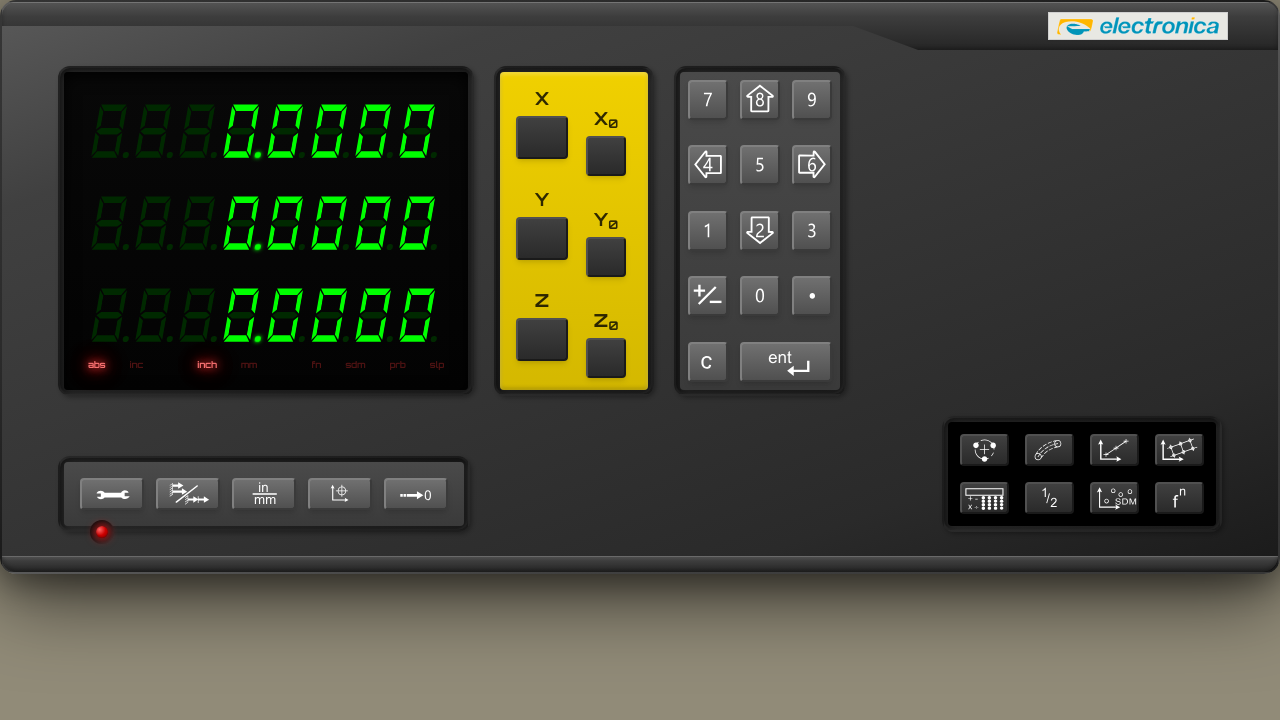
Test case: SDM Learn Mode Integration (US-009) › entering SDM and the menu (AC 9.1) › navigates the menu ring with the right arrow
This screenshot has width=1280, height=720.
Click the button with test id "btn-sdm": (1114, 498) [1090,482,1139,514]
Wait 1010 ms
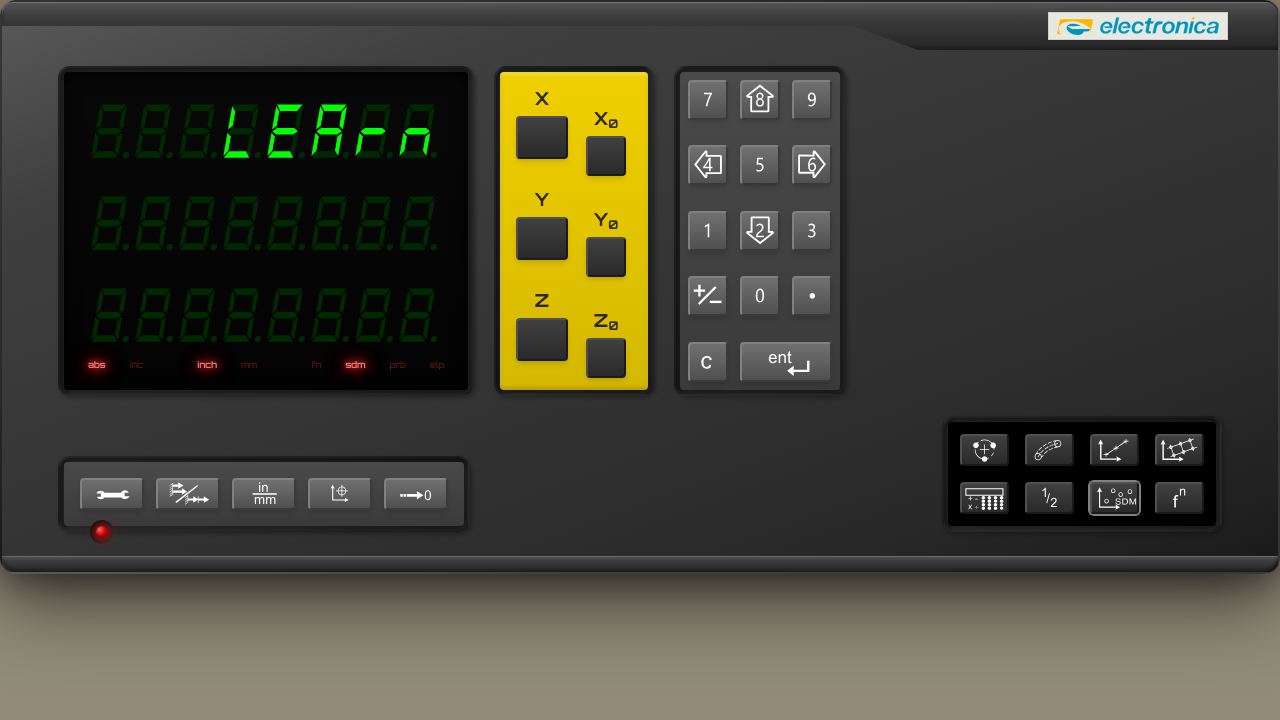
Click the button with test id "key-6": (812, 165) [792,145,832,185]
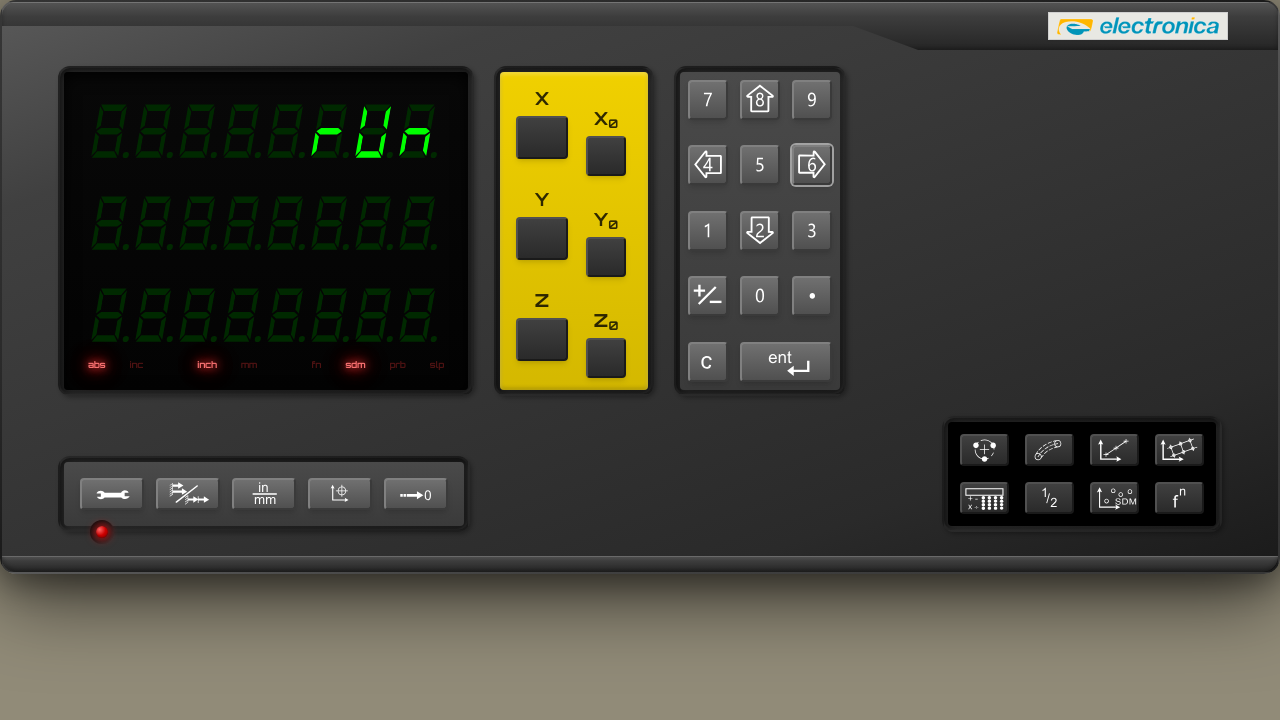
Expected: the cell with test id "axis-value-x" reads "rUn", [121,116,154,136]
Click the button with test id "key-6": (812, 165) [792,145,832,185]
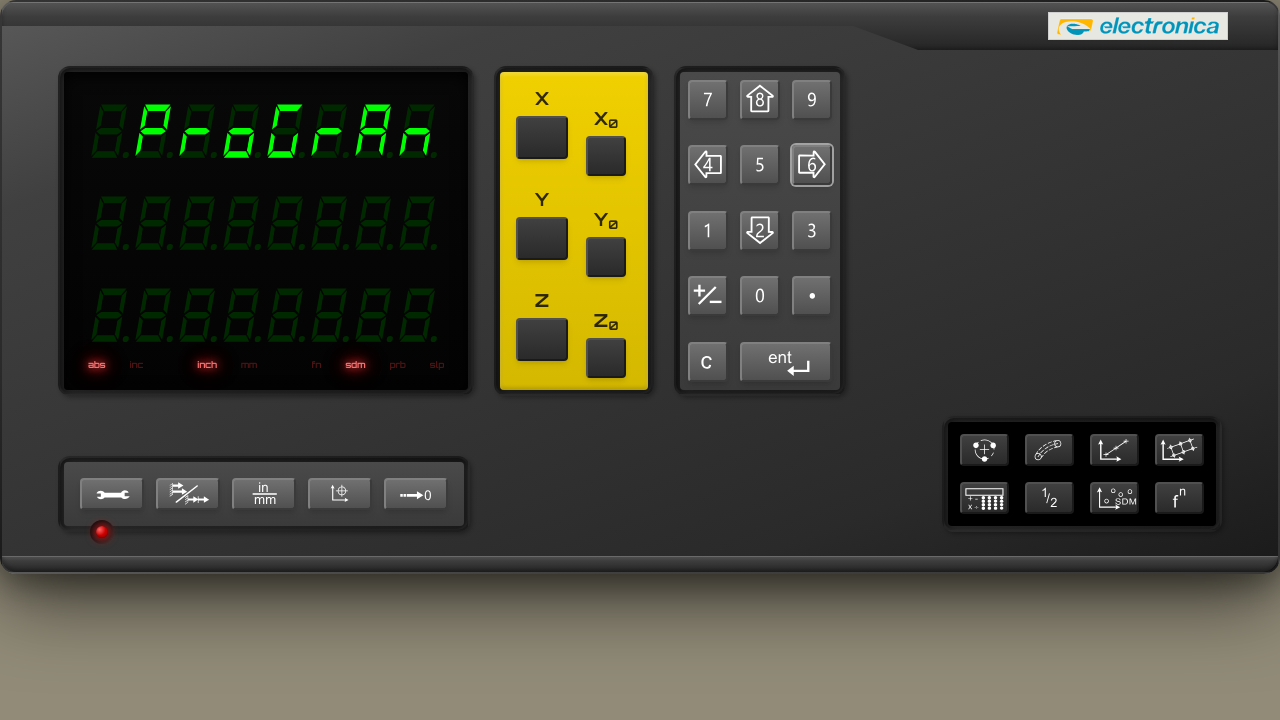
Expected: the cell with test id "axis-value-x" reads "ProGrAn", [121,116,199,136]
Click the button with test id "key-6": (812, 165) [792,145,832,185]
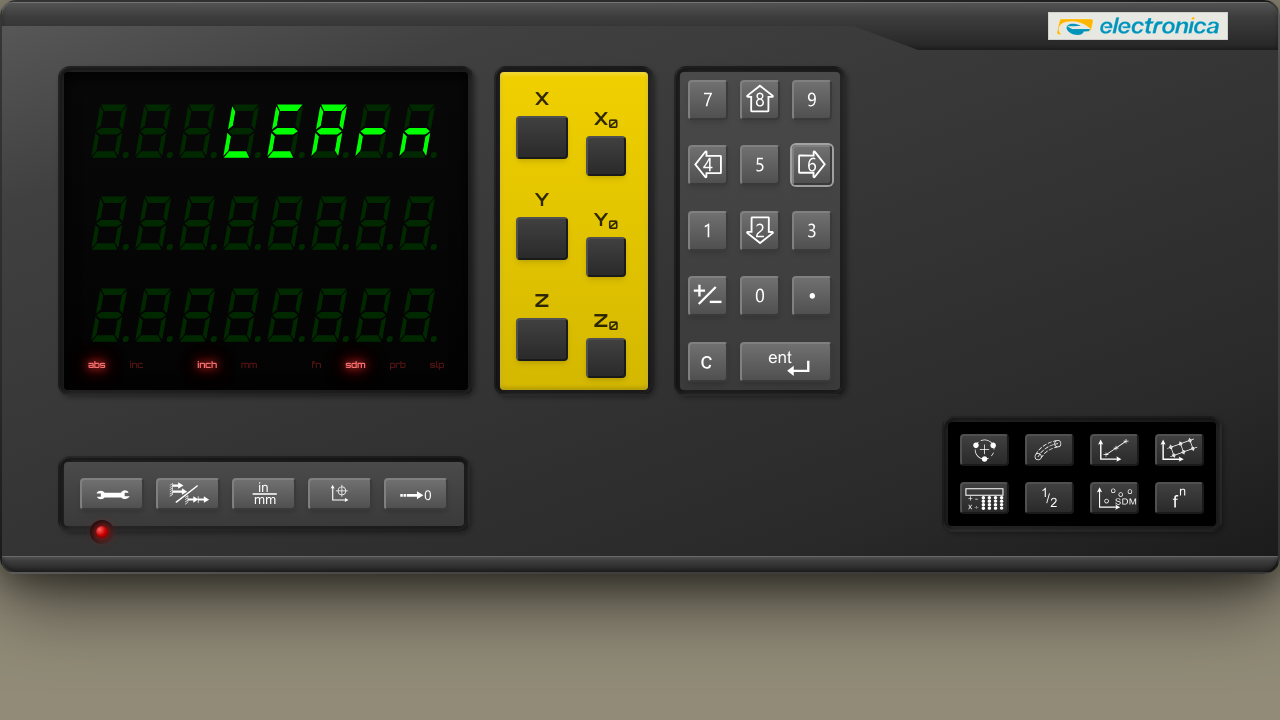
Expected: the cell with test id "axis-value-x" reads "LEArn", [121,116,179,136]
